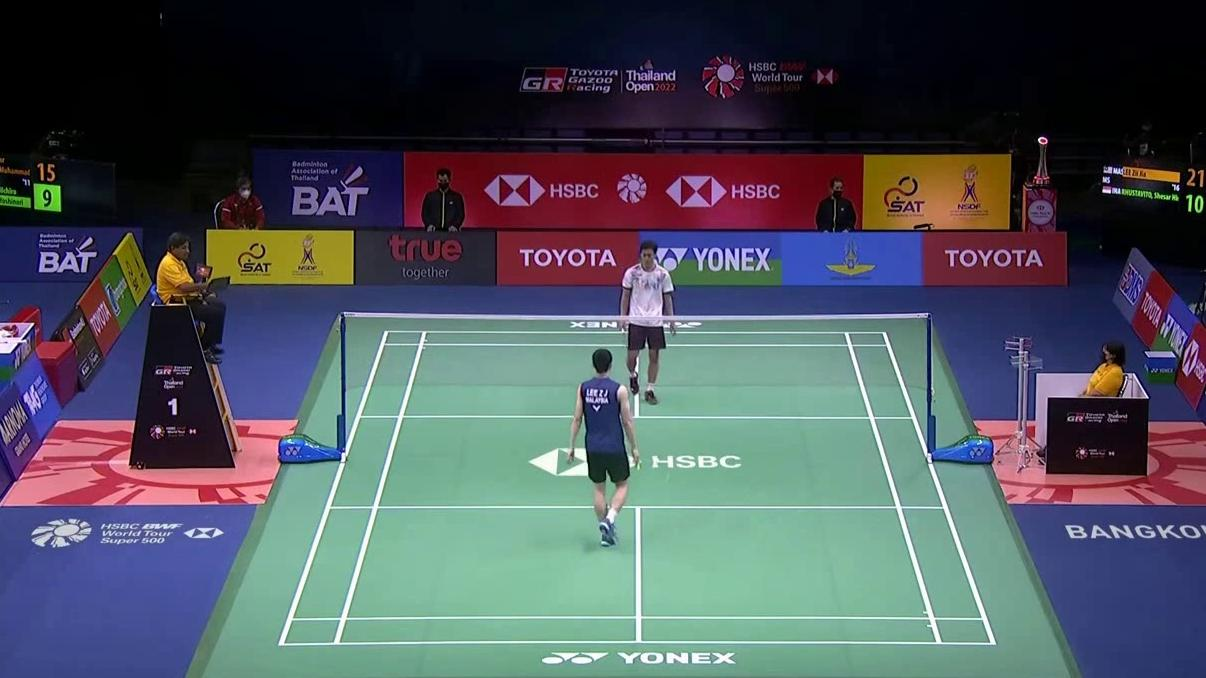racket: (623, 389, 641, 468), (616, 318, 638, 362)
shuttle: (650, 455, 660, 463)
